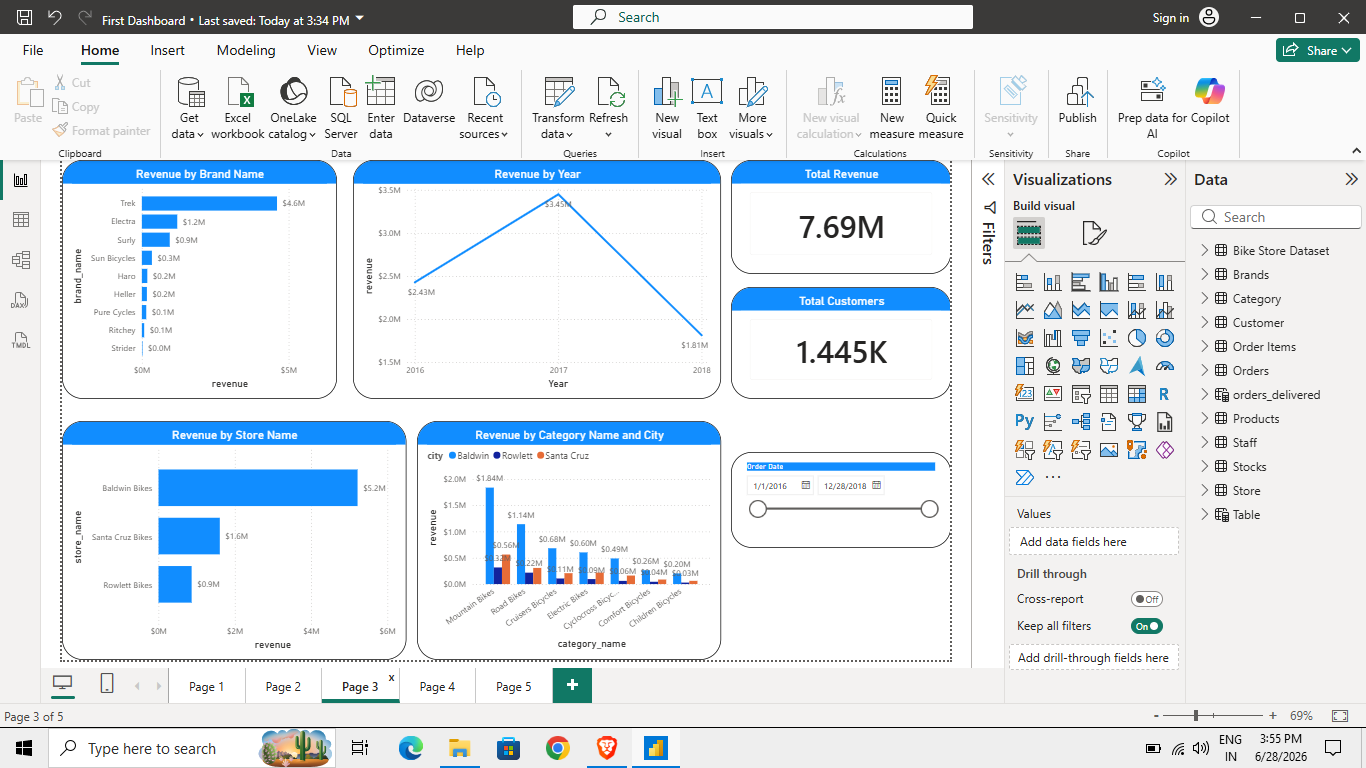

Layout of this report page (visuals, bound fields, positions):
{"tool":"powerbi","page":{"name":"Page 3","canvas":[1280,720],"ordinal":2},"visuals":[{"type":"barChart","title":"Revenue by Store Name","fields":{"Category":["Store.store_name"],"Y":["Table.revenue"]},"box":[0,375.7,495.7,344.3],"z":0},{"type":"clusteredColumnChart","title":"Revenue by Category Name and City","fields":{"Category":["Category.category_name"],"Y":["Table.revenue"],"Series":["Store.city"]},"box":[511.2,375.8,437.8,344.2],"z":1000},{"type":"lineChart","title":"Revenue by Year","fields":{"Category":["Orders.order_date.Variation.Date Hierarchy.Year","Orders.order_date.Variation.Date Hierarchy.Quarter","Orders.order_date.Variation.Date Hierarchy.Month","Orders.order_date.Variation.Date Hierarchy.Day"],"Y":["Table.revenue"]},"box":[418.6,0,530,344.3],"z":2000},{"type":"barChart","title":"Revenue by Brand Name","fields":{"Category":["Brands.brand_name"],"Y":["Table.revenue"]},"box":[0,0,395.7,344.3],"z":3000},{"type":"slicer","fields":{"Values":["Orders.order_date"]},"box":[963.4,420.5,316.8,138.2],"z":5000},{"type":"cardVisual","title":"Total Revenue","fields":{"Data":["Table.revenue"]},"box":[962.9,0,317.1,164.3],"z":6000},{"type":"cardVisual","title":"Total Customers","fields":{"Data":["Table.total_customers"]},"box":[962.9,182.9,317.1,161.4],"z":7000}]}

Visuals, with their boxes on the page's 1280x720 design canvas (x1, y1, x2, y2). These are canvas units, not pixel positions in the 1366x768 screenshot, which may show the page scaled, cropped or inside an application window:
"Revenue by Store Name" barChart: 0 376 496 720
"Revenue by Category Name and City" clusteredColumnChart: 511 376 949 720
"Revenue by Year" lineChart: 419 0 949 344
"Revenue by Brand Name" barChart: 0 0 396 344
slicer - Orders.order_date: 963 420 1280 559
"Total Revenue" cardVisual: 963 0 1280 164
"Total Customers" cardVisual: 963 183 1280 344
